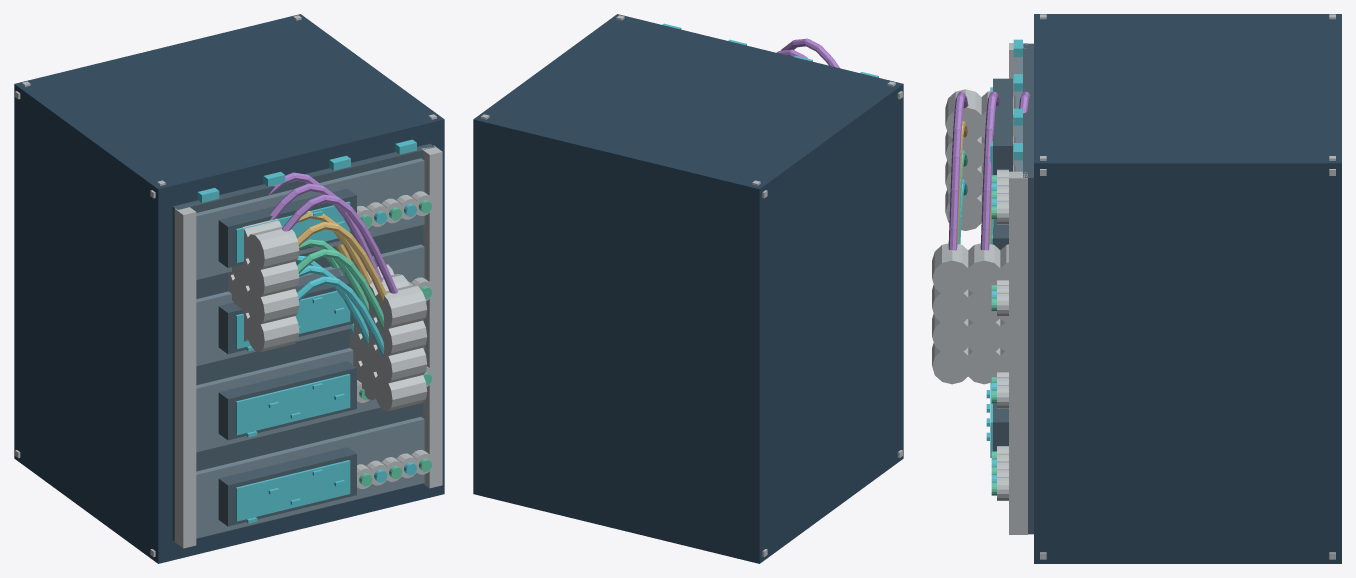
File: 08_L80_OpticalFiberRibbonCassette.glb
3 renders of one model, left to right at view 1: azimuth 30°, elevation 25°; view 2: azimuth 150°, elevation 25°; view 3: azimuth 270°, elevation 25°, orthographic. The views are drawn at different scales.
Visible parts, largest first — view 1: OpticalFiberRibbonCassette_Node_0000, OpticalFiberRibbonCassette_Node_0009, OpticalFiberRibbonCassette_Node_0082, OpticalFiberRibbonCassette_Node_0064, OpticalFiberRibbonCassette_Node_0010, OpticalFiberRibbonCassette_Node_0083, OpticalFiberRibbonCassette_Node_0046, OpticalFiberRibbonCassette_Node_0048, OpticalFiberRibbonCassette_Node_0066, OpticalFiberRibbonCassette_Node_0028, OpticalFiberRibbonCassette_Node_0065, OpticalFiberRibbonCassette_Node_0047 (+12 smaller); view 2: OpticalFiberRibbonCassette_Node_0000; view 3: OpticalFiberRibbonCassette_Node_0000, OpticalFiberRibbonCassette_Node_0083, OpticalFiberRibbonCassette_Node_0009, OpticalFiberRibbonCassette_Node_0011, OpticalFiberRibbonCassette_Node_0423, OpticalFiberRibbonCassette_Node_0422, OpticalFiberRibbonCassette_Node_0171, OpticalFiberRibbonCassette_Node_0419, OpticalFiberRibbonCassette_Node_0339, OpticalFiberRibbonCassette_Node_0255, OpticalFiberRibbonCassette_Node_0170, OpticalFiberRibbonCassette_Node_0254 (+5 smaller).
Boxes of the visible parts, x1,y1,x2,y2 form: OpticalFiberRibbonCassette_Node_0000: [14, 14, 444, 563]; OpticalFiberRibbonCassette_Node_0009: [172, 143, 434, 540]; OpticalFiberRibbonCassette_Node_0082: [174, 207, 196, 548]; OpticalFiberRibbonCassette_Node_0064: [196, 417, 424, 538]; OpticalFiberRibbonCassette_Node_0010: [196, 158, 424, 279]; OpticalFiberRibbonCassette_Node_0083: [421, 145, 442, 488]; OpticalFiberRibbonCassette_Node_0046: [196, 346, 424, 452]; OpticalFiberRibbonCassette_Node_0048: [235, 374, 350, 435]; OpticalFiberRibbonCassette_Node_0066: [235, 460, 350, 521]; OpticalFiberRibbonCassette_Node_0028: [196, 244, 424, 366]; OpticalFiberRibbonCassette_Node_0065: [218, 447, 356, 526]; OpticalFiberRibbonCassette_Node_0047: [218, 361, 356, 440]; OpticalFiberRibbonCassette_Node_0000: [473, 14, 903, 563]; OpticalFiberRibbonCassette_Node_0000: [1034, 14, 1341, 563]; OpticalFiberRibbonCassette_Node_0083: [1009, 171, 1027, 534]; OpticalFiberRibbonCassette_Node_0009: [1023, 43, 1033, 534]; OpticalFiberRibbonCassette_Node_0011: [993, 78, 1012, 174]; OpticalFiberRibbonCassette_Node_0423: [932, 243, 971, 296]; OpticalFiberRibbonCassette_Node_0422: [964, 243, 1004, 296]; OpticalFiberRibbonCassette_Node_0171: [932, 343, 971, 384]; OpticalFiberRibbonCassette_Node_0419: [945, 89, 985, 139]; OpticalFiberRibbonCassette_Node_0339: [932, 285, 971, 324]; OpticalFiberRibbonCassette_Node_0255: [932, 314, 971, 354]; OpticalFiberRibbonCassette_Node_0170: [964, 348, 1003, 384]; OpticalFiberRibbonCassette_Node_0254: [964, 318, 1004, 354].
Bounding box in the file's own units: 1.34 × 1.67 × 1.53.
